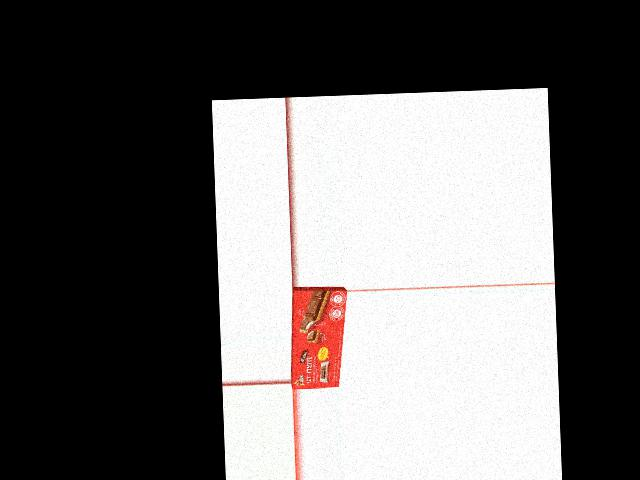chocolate: (291, 286, 344, 390)
